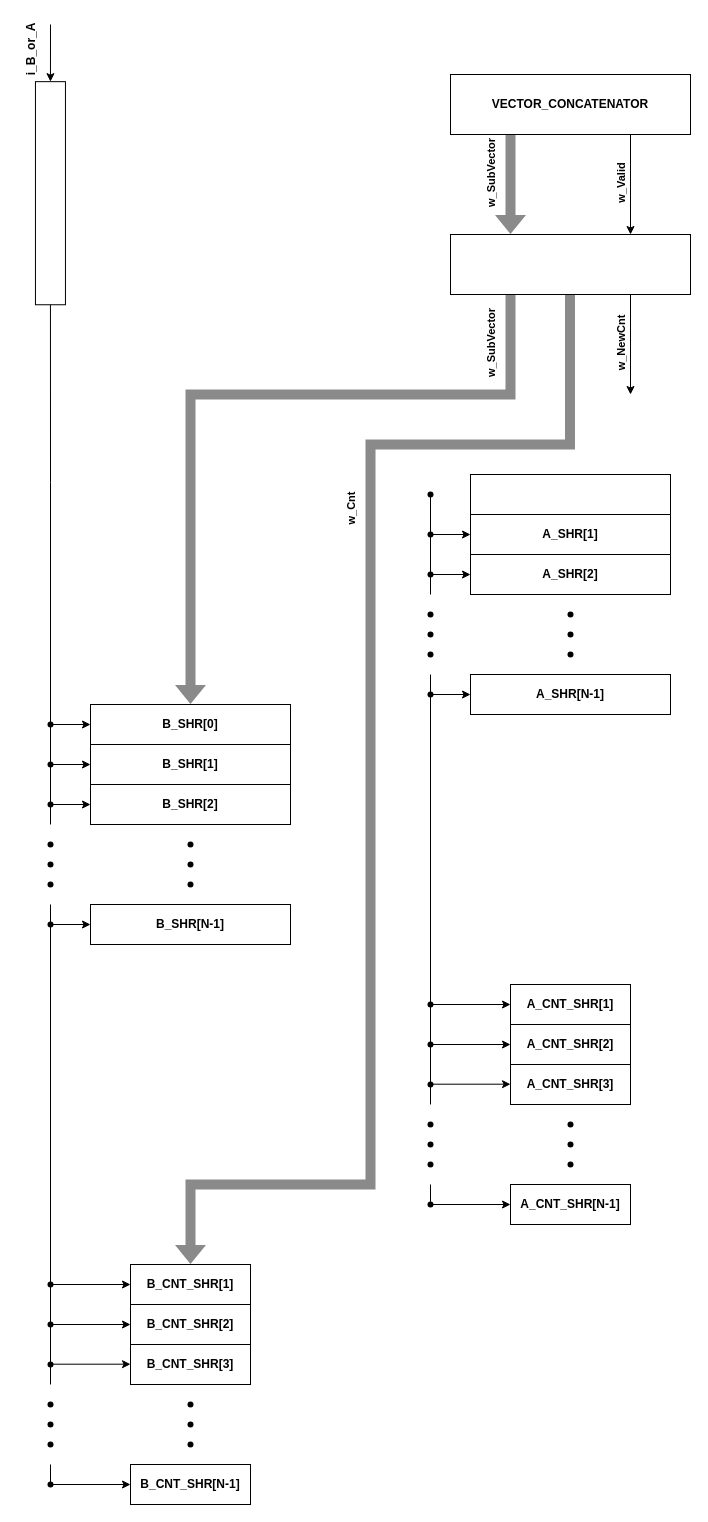
The diagram is 708 pixels wide and 1522 high, and some of its shapes have lost their labels. Each missing label, with the centre of its shape:
"A_SHR[0]" belongs at (x=570, y=494).
"CNT1 (pre_stage_unit)" belongs at (x=570, y=264).
"DELAY" belongs at (x=49, y=193).
